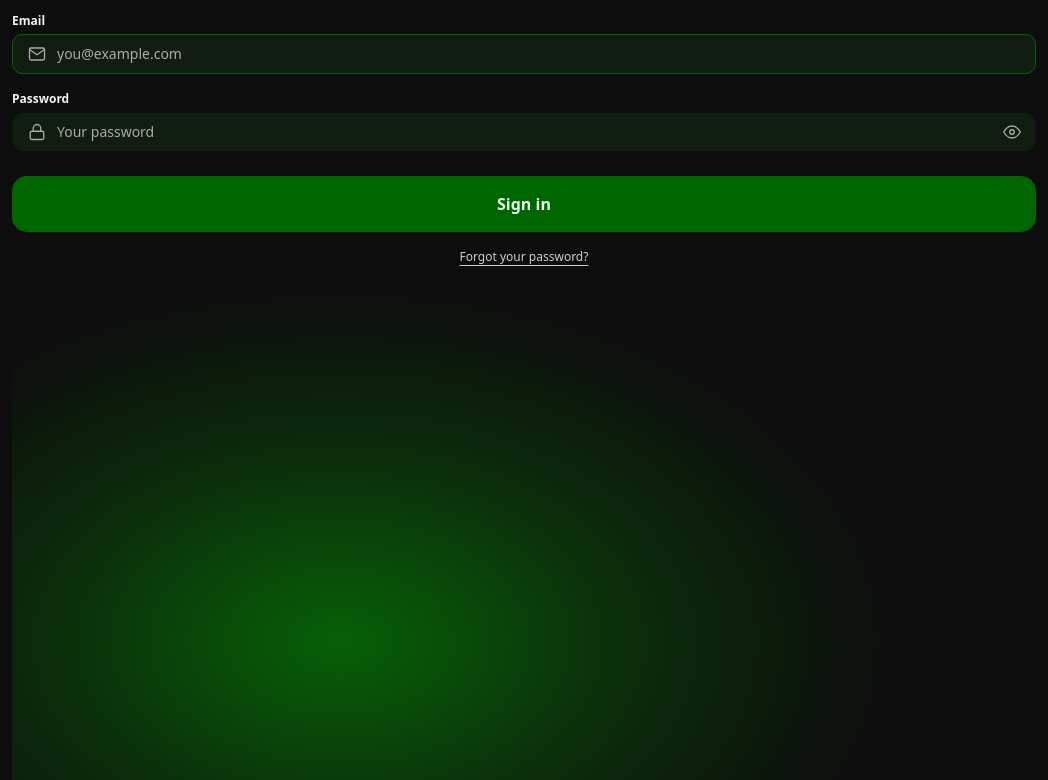
Test: LoginForm › shows a rate-limit notice on 429
The image size is (1048, 780).
Type "trainer@example.com" into the field labelled "Email".
click(524, 54); type("trainer@example.com")  # box x1=12 y1=34 x2=1036 y2=74
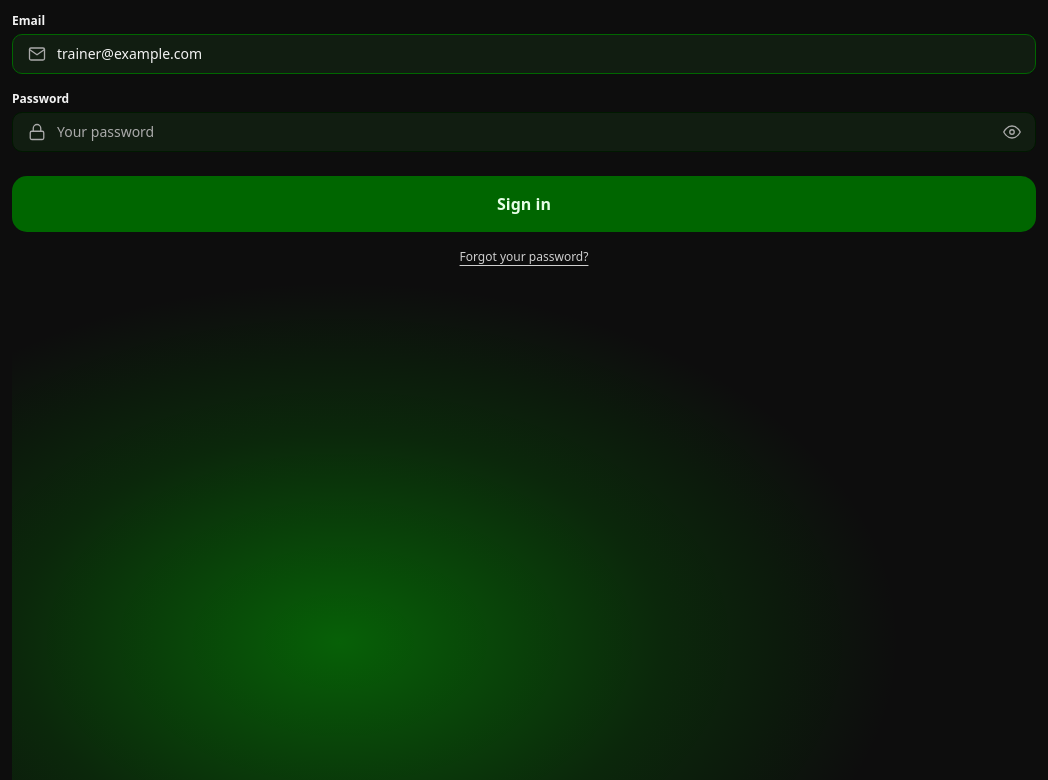
Type "Password1" into the password field labelled "Password".
click(524, 132); type("Password1")  # box x1=12 y1=112 x2=1036 y2=152
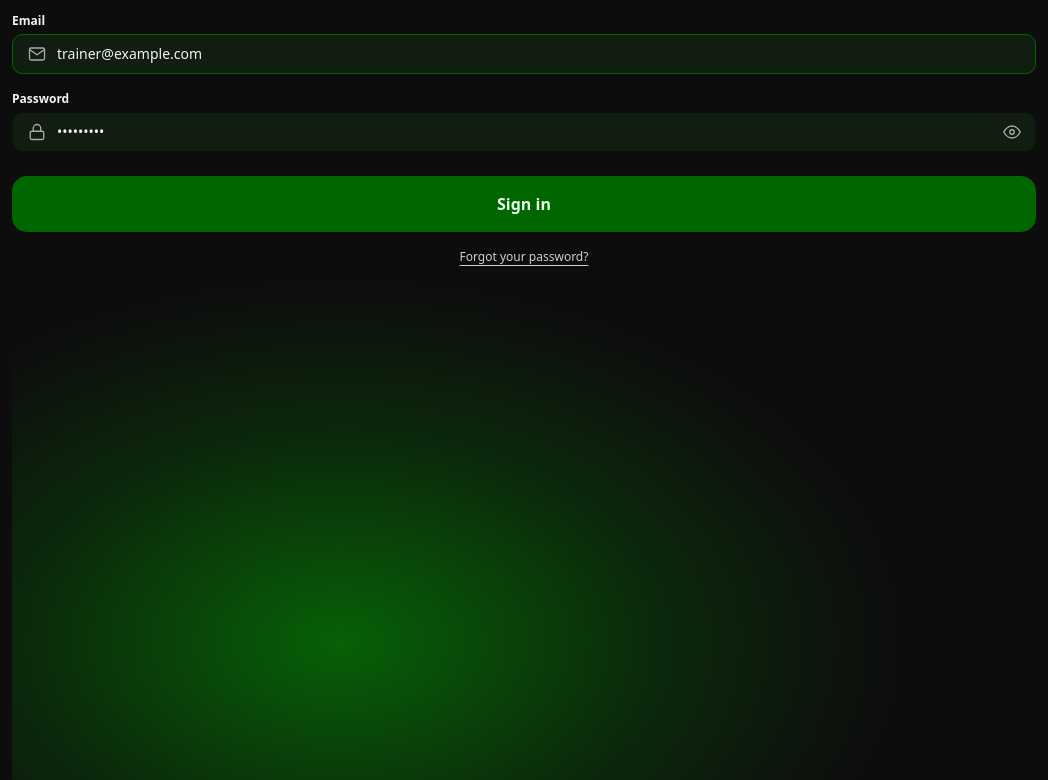
Click the button "Sign in".
click(524, 204)  # box x1=12 y1=176 x2=1036 y2=232
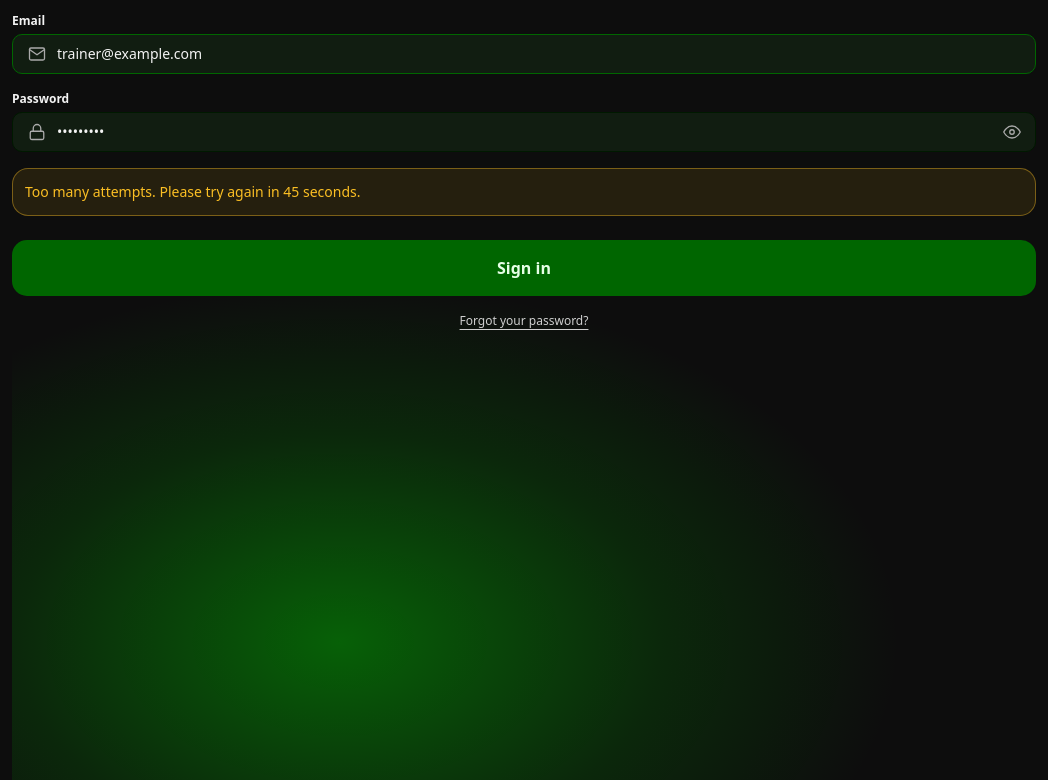
Now the text "Too many attempts. Please try again in 45 seconds." is shown, box x1=12 y1=168 x2=1036 y2=216
